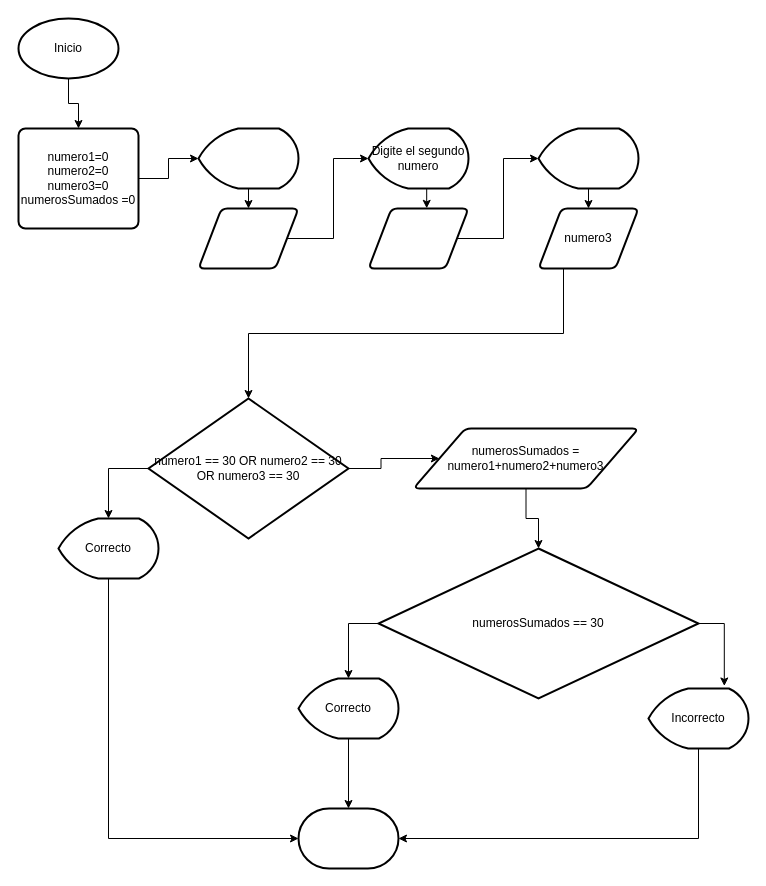
Some shapes in this 766 by 886 pixel diagram are drawn without their labels. Here are the shapes that lost their labels. From the top down, the centre of each, then its label:
At [248,158]: "Digite el primero numero".
At [588,158]: "Digite el tercer numero".
At [248,238]: "numero1".
At [418,238]: "numero2".
At [348,838]: "Fin".
